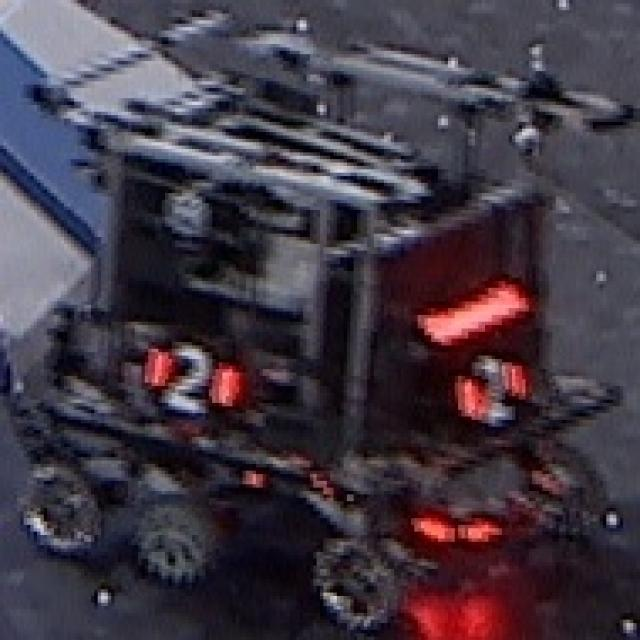R2: (137, 330, 234, 425), (440, 344, 530, 435)
